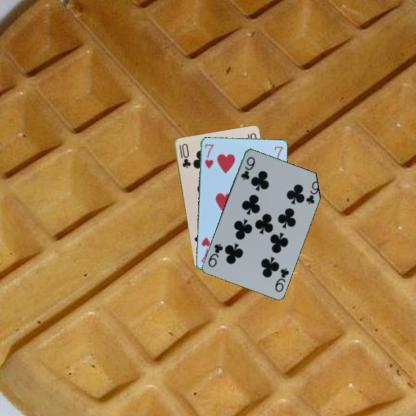10c: (176, 141, 192, 169)
7h: (202, 141, 215, 169)
9c: (272, 265, 290, 293), (238, 154, 256, 181)
